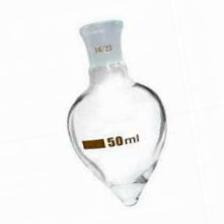Pear shaped flask: (50, 17, 170, 206)
